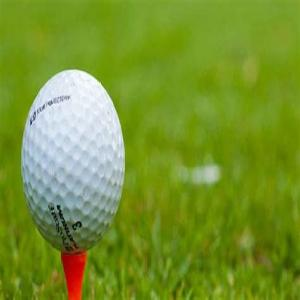Golf: (20, 72, 128, 252)
